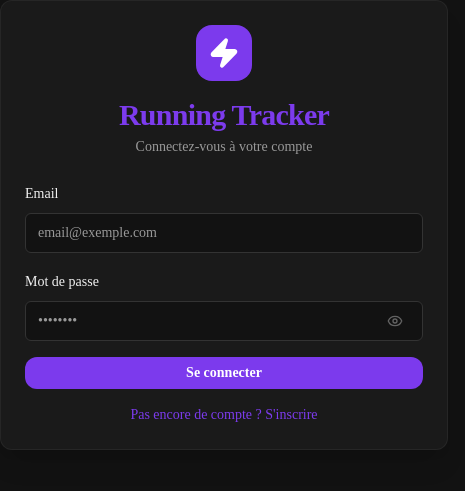
Test: LoginCard › inline error handling › shows password error when password is empty
The image size is (465, 491).
Step 1. Type "test@example.com" into the field with test id "login-email" → (224, 233), box [25,213,423,253]
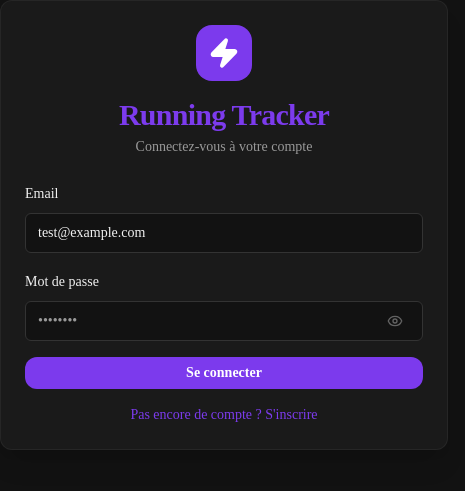
Step 2. Click the button with test id "login-submit" → (224, 373), box [25,357,423,389]
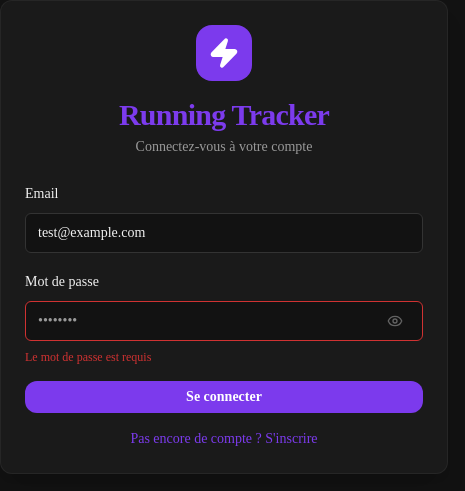
Result: the text "Le mot de passe est requis" is shown at [25,350,151,364]
